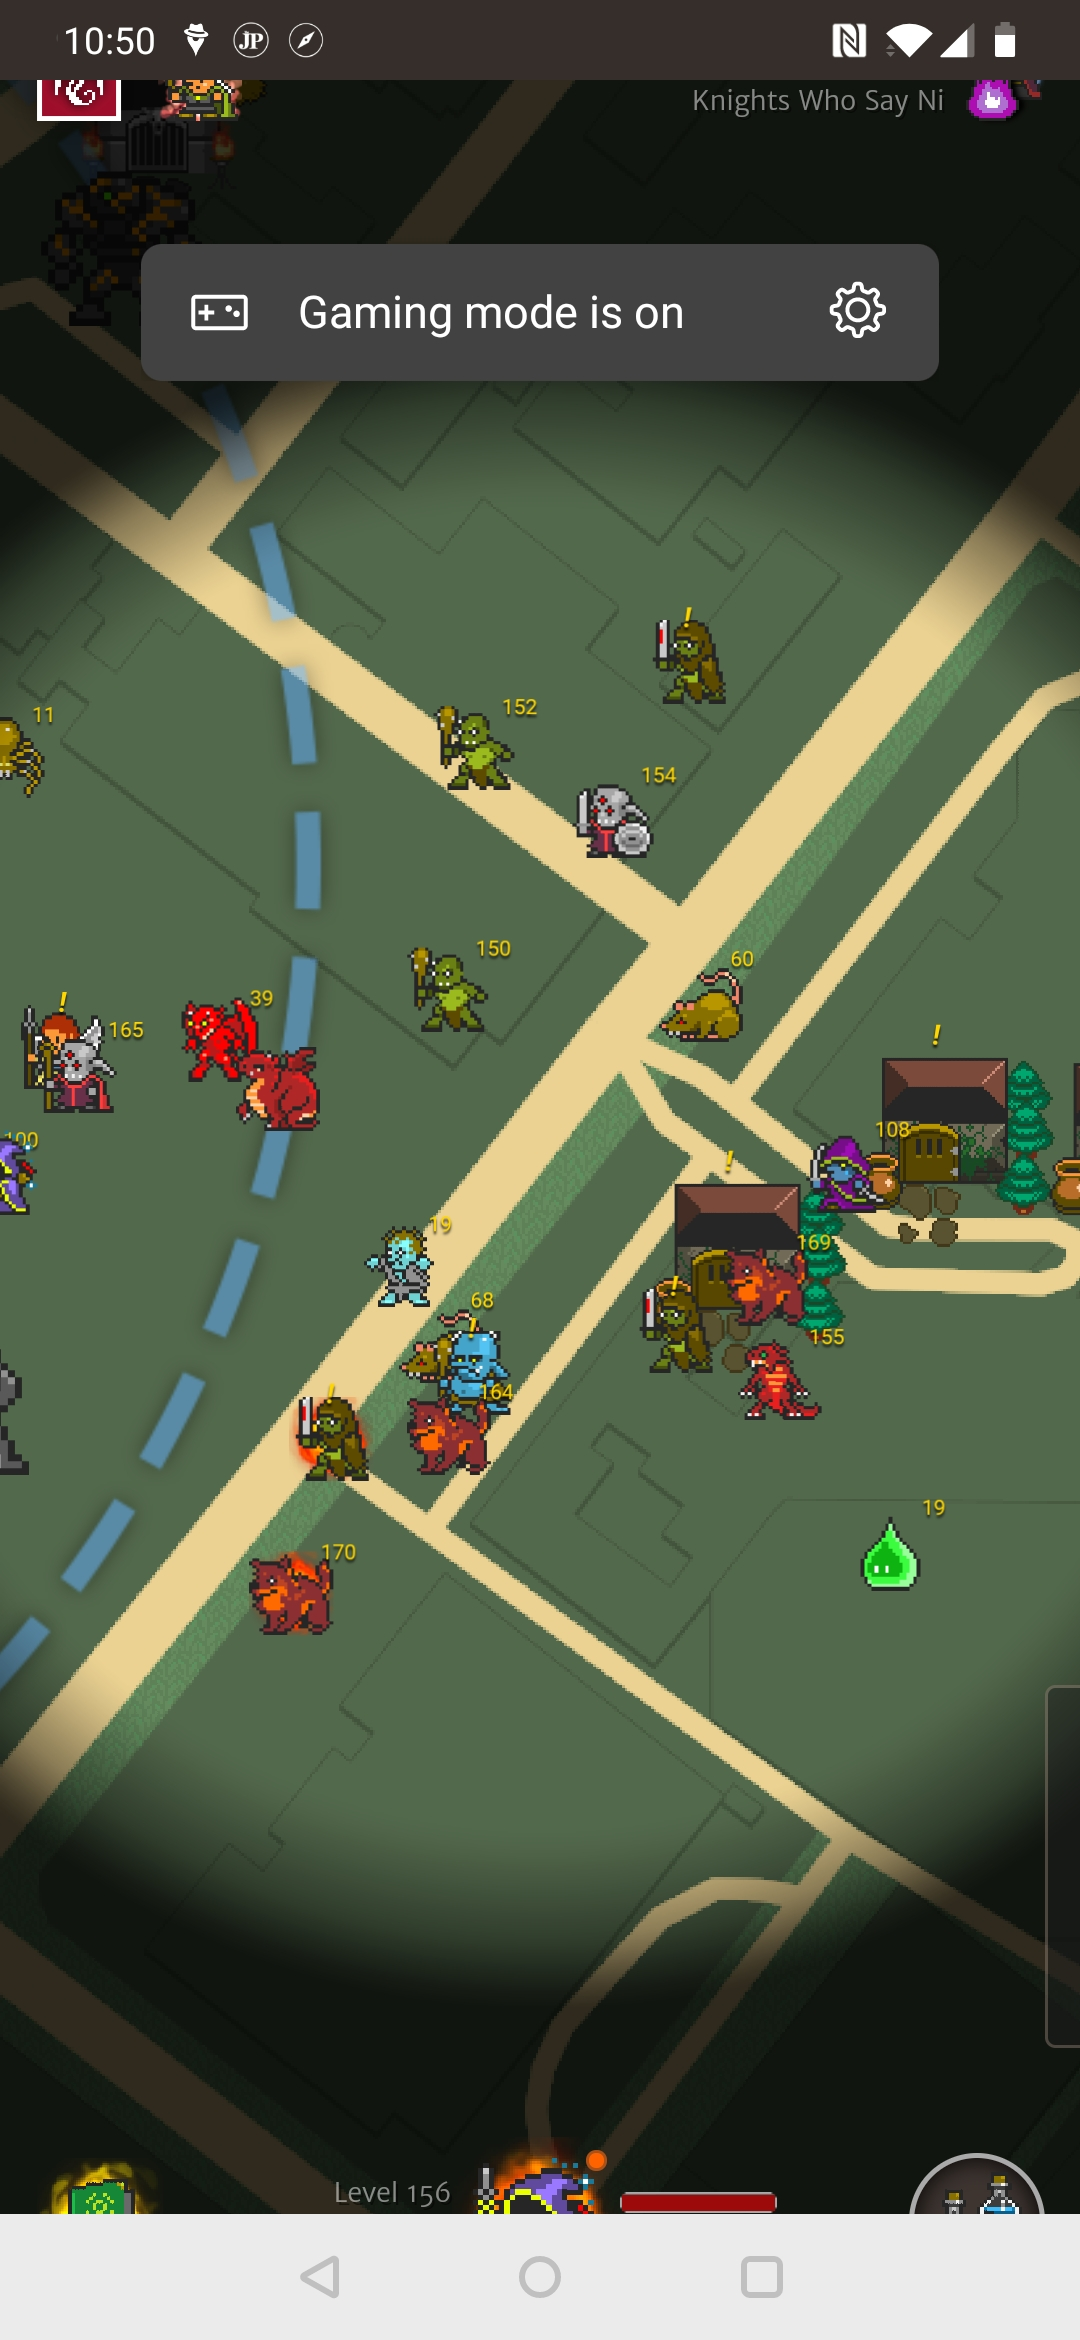monster: (638, 598, 753, 713), (433, 698, 543, 810), (729, 1334, 832, 1437), (412, 945, 515, 1048), (243, 1540, 343, 1640), (295, 1395, 391, 1492), (570, 778, 662, 872), (656, 969, 747, 1058), (374, 1213, 462, 1301), (858, 1509, 932, 1583)
